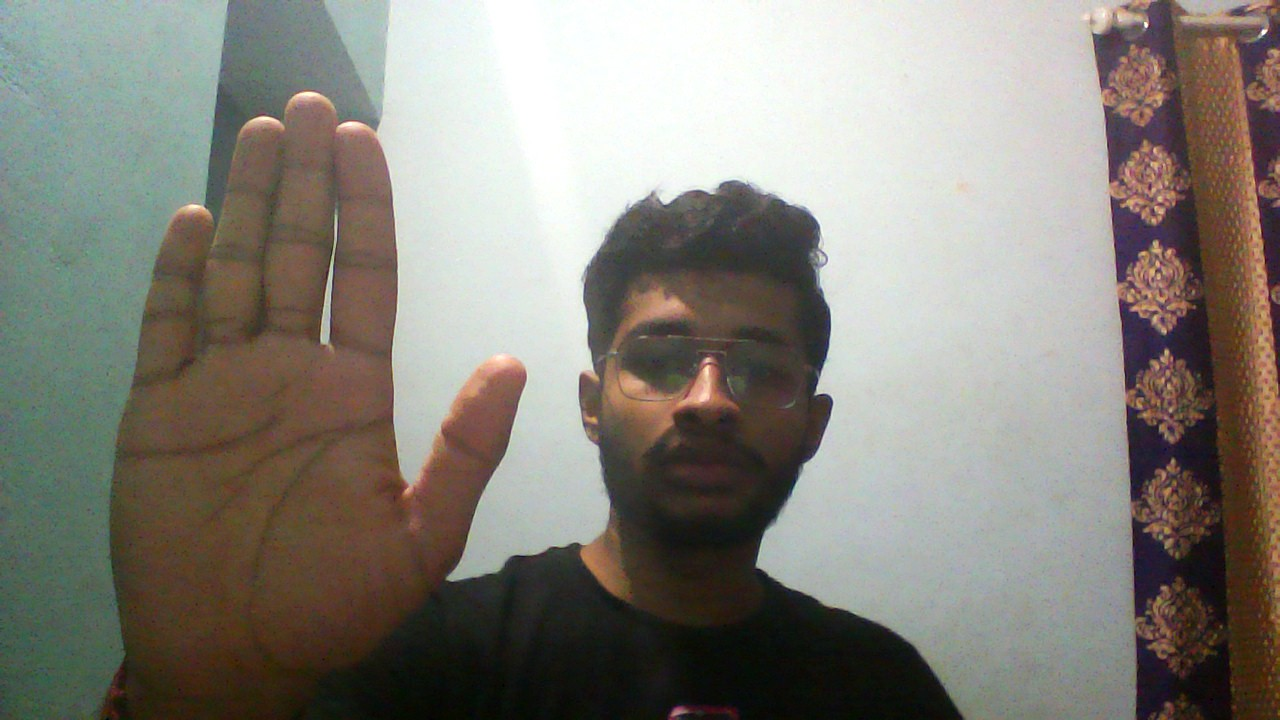hello: (110, 88, 525, 680)
